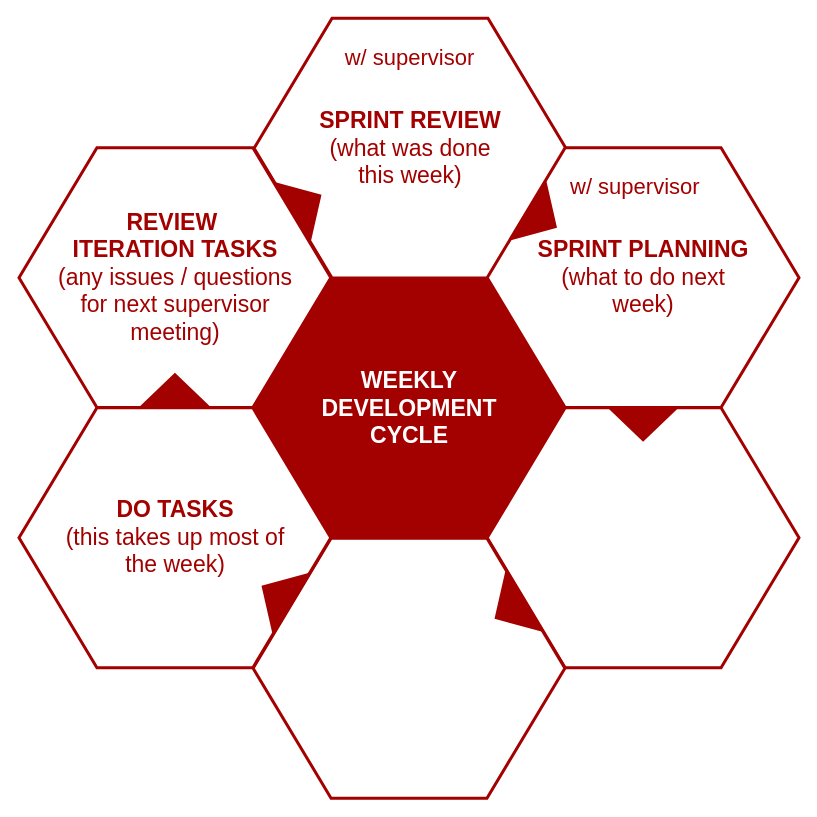
Image size: 817x817. Some labels were removed from this diagram. The shapes that lost their labels are listed below. From the top down, each one's box as (x1, y1, x2, y2) in pixels, then its label:
(485, 406, 800, 669): WRITE-UP ITERATION TASKS (GitHub Projects: iteration table)
(251, 536, 566, 799): SCHEDULE TASKS WITHIN THE WEEK (GitHub Projects: roadmap)
